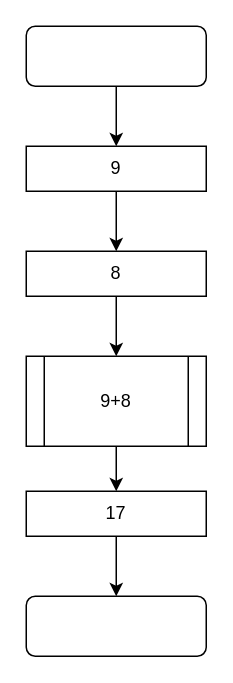
This 233x683 diagram has some shape labels left out. Here are the shapes that lost their labels. From the top down, the centre of each, then its label:
At (115,55): "INICIO".
At (115,625): "FIM".
